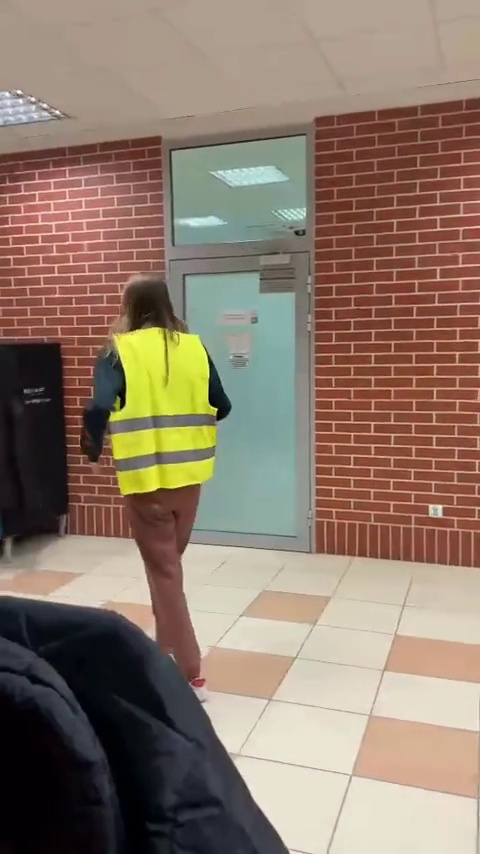vest: (77, 279, 236, 702)
